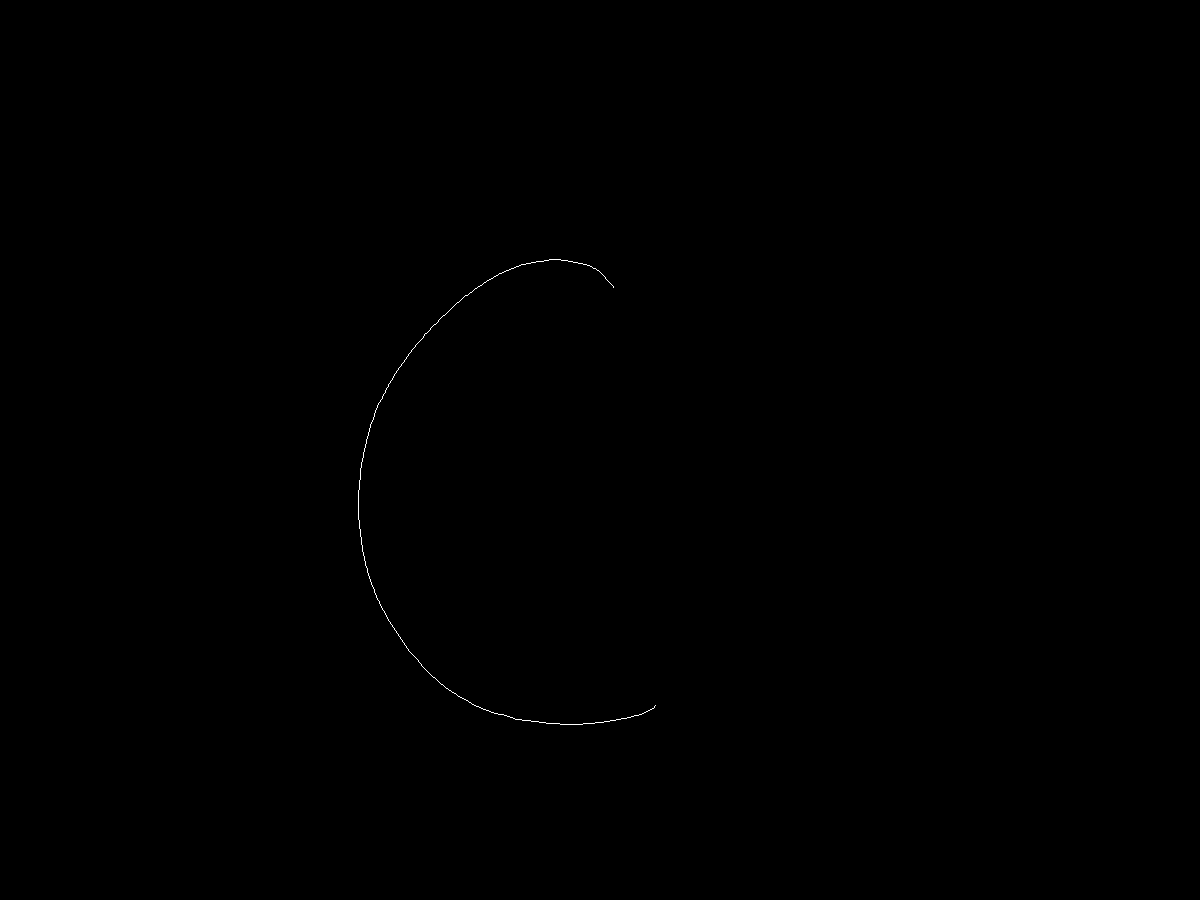dian1: (607, 277, 620, 298)
dian2: (644, 693, 671, 725)
